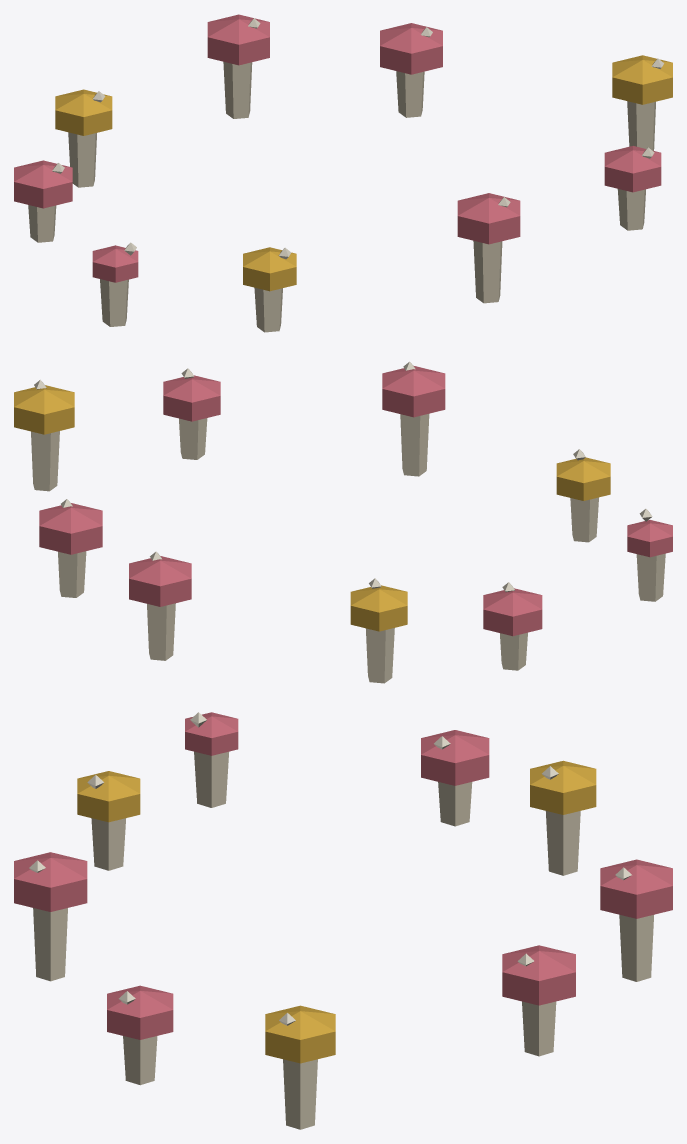
Rendered from mushroom_ring.glb.
3 views of the same model, one above another, from view 1: azimuth 30°, elevation 25°; view 2: azimuth 150°, elevation 25°; view 3: azimuth 270°, elevation 25° (orthographic). The views are drawn at different scales.
Parts seen in each view (by area): view 1: mushroom_ring; view 2: mushroom_ring; view 3: mushroom_ring.
Part boxes in pixels (<box>): mushroom_ring: <box>14,14,672,332</box>; mushroom_ring: <box>14,361,672,683</box>; mushroom_ring: <box>14,712,672,1129</box>.
Bounding box in the file's own units: 1.92 × 0.3067 × 1.52.
